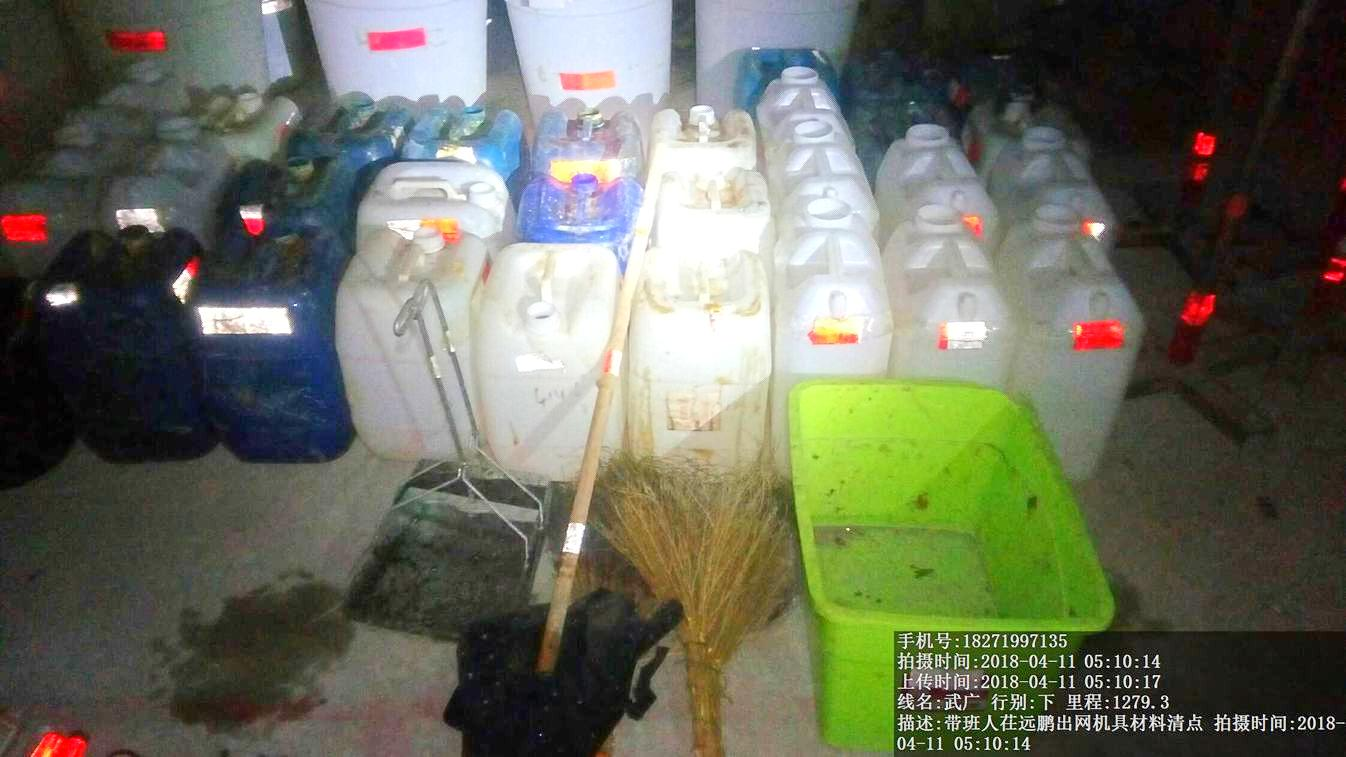SB: (599, 461, 798, 757)
SLT: (186, 231, 351, 467)
